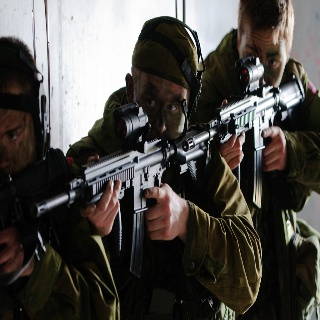rifle: (33, 100, 218, 280), (216, 54, 309, 214)
